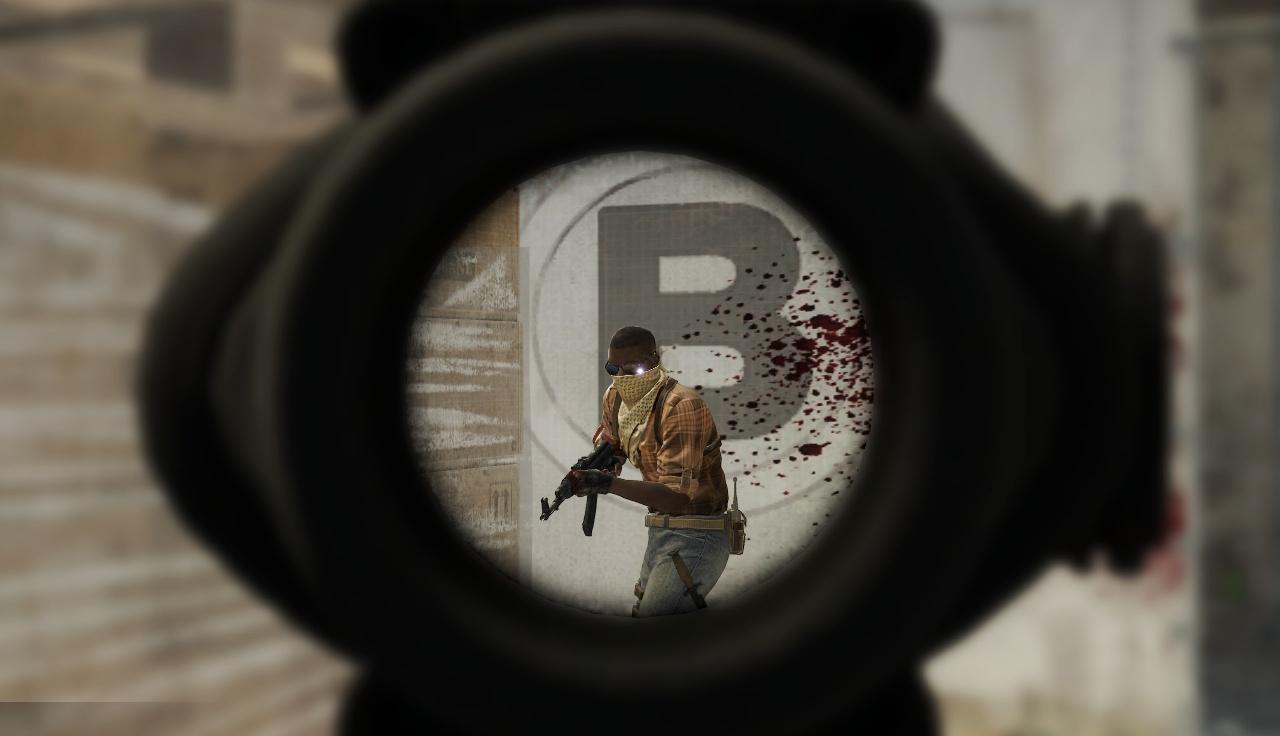tt: (593, 334, 719, 618)
tthead: (610, 328, 658, 398)
